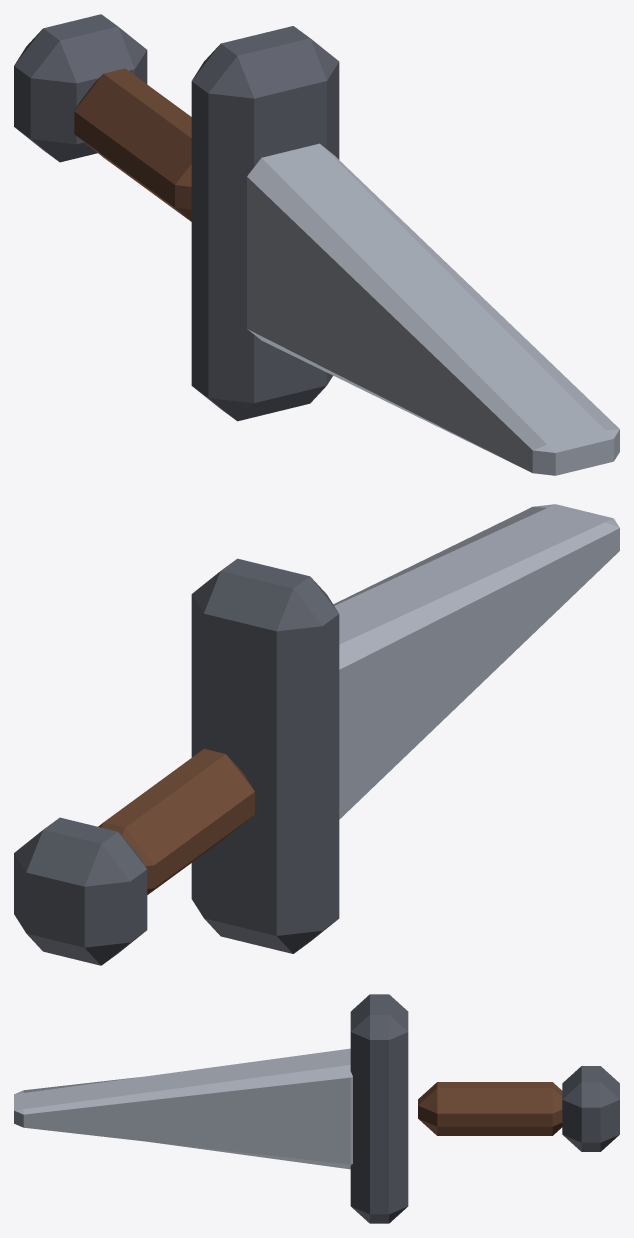
Rendered from Dagger.fbx.
The picture shows the model from 3 angles, top to bottom: view 1: azimuth 30°, elevation 25°; view 2: azimuth 150°, elevation 25°; view 3: azimuth 270°, elevation 25°; orthographic projection. The views are drawn at different scales.
Visible parts, largest first — view 1: Dagger__hand_R; view 2: Dagger__hand_R; view 3: Dagger__hand_R.
Part boxes in pixels (x1,y1,x2,y2): Dagger__hand_R: [14, 14, 619, 475]; Dagger__hand_R: [14, 504, 619, 965]; Dagger__hand_R: [14, 994, 619, 1223].
Size of the model in its own units: 0.09 by 0.24 by 0.63.
